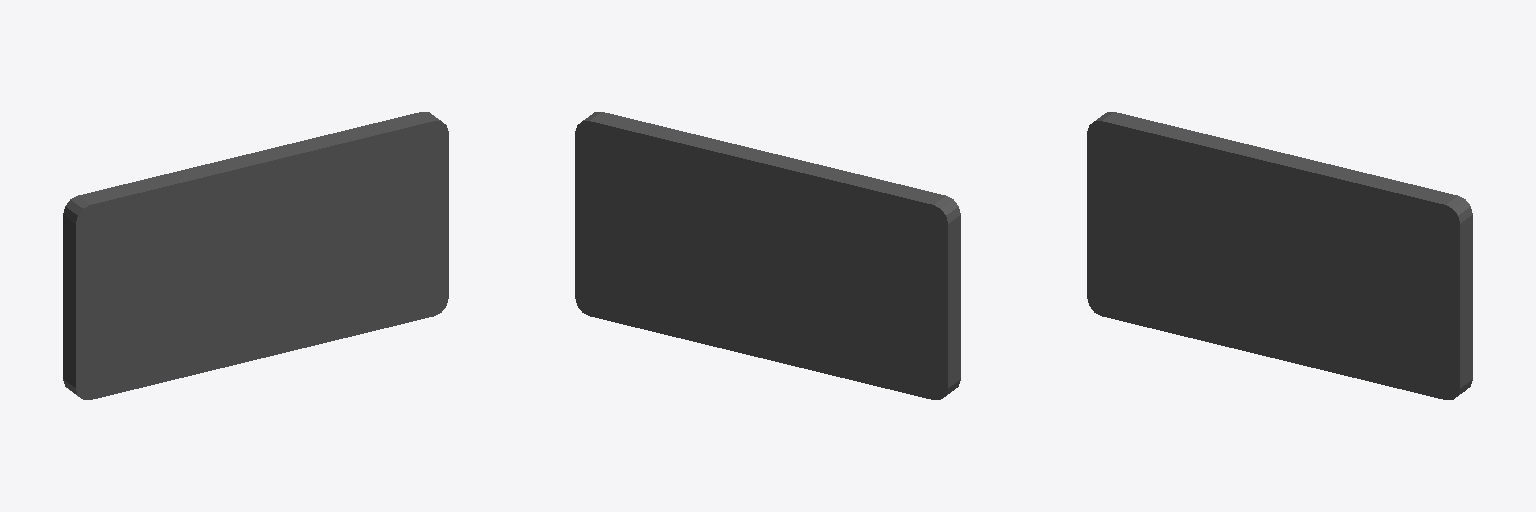
The model's file is homecart_arm_mount_cantilever.obj.
The picture shows the model from 3 angles: view 1: azimuth 30°, elevation 25°; view 2: azimuth 150°, elevation 25°; view 3: azimuth 330°, elevation 25°; orthographic projection.
Size of the model in its own units: 0.254 by 0.127 by 0.015.